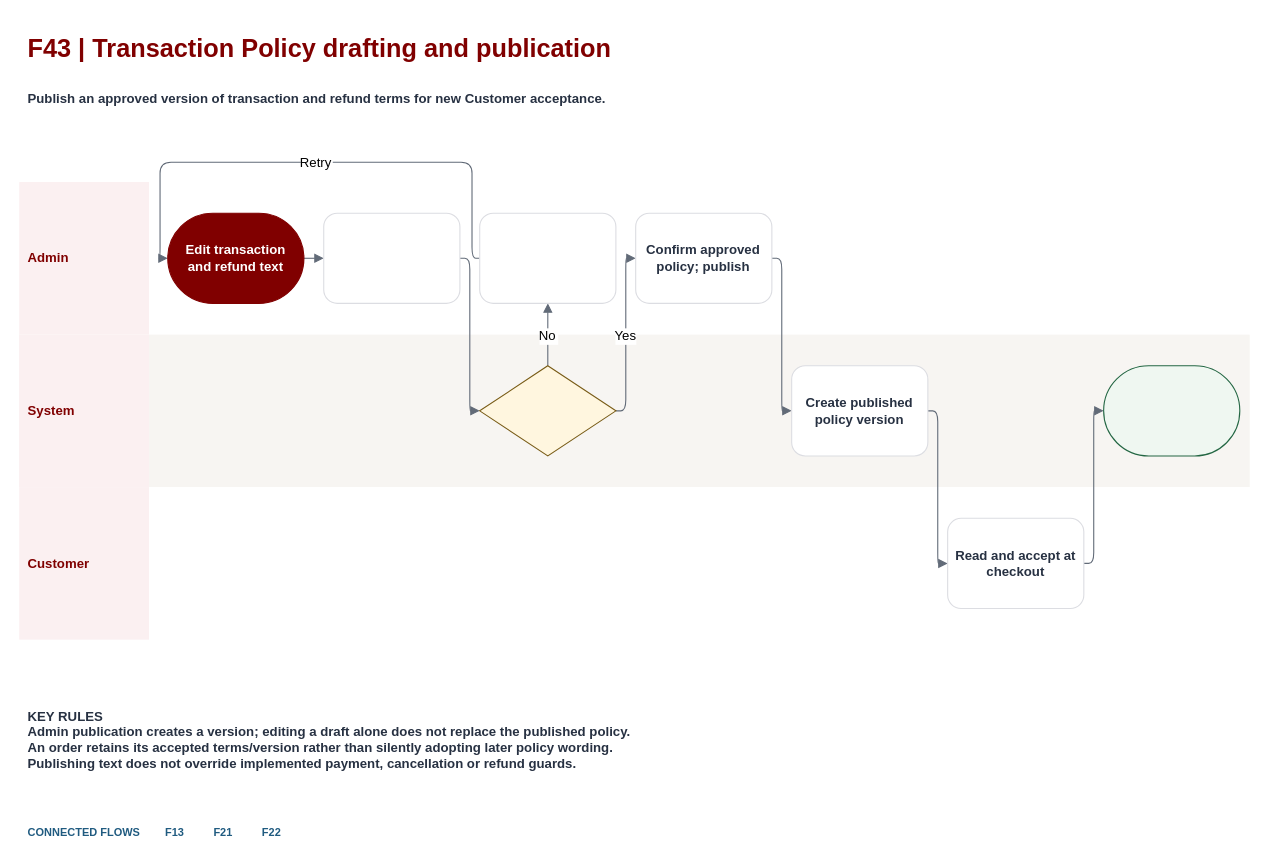
Some shapes in this 1268 by 860 pixel diagram are drawn without their labels. Each missing label, with the box of its shape:
Correct draft before publication: (479, 212, 616, 303)
Draft valid?: (479, 365, 616, 456)
Review draft and public preview: (323, 212, 460, 303)
Save accepted version on order: (1103, 365, 1240, 456)
